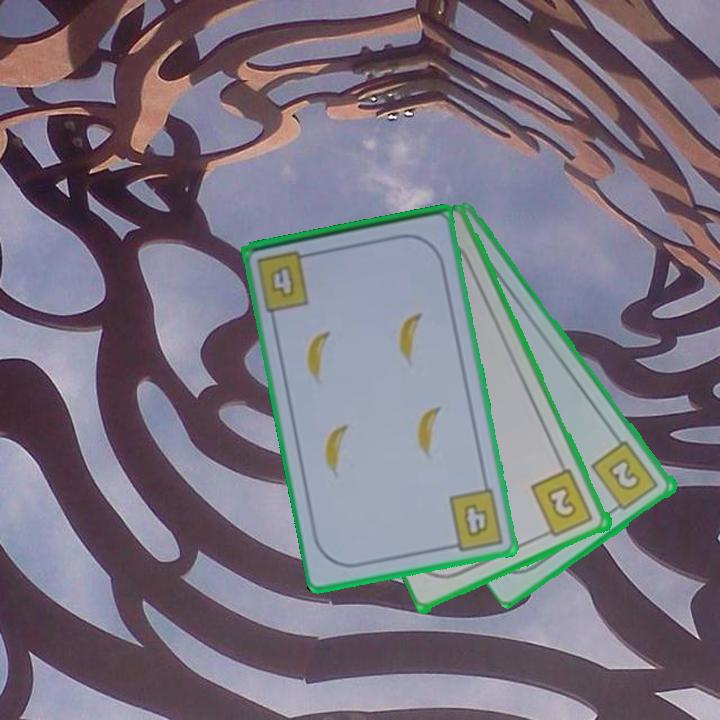2b: (588, 437, 662, 516), (528, 466, 597, 541)
4b: (253, 246, 318, 315), (443, 485, 507, 554)
